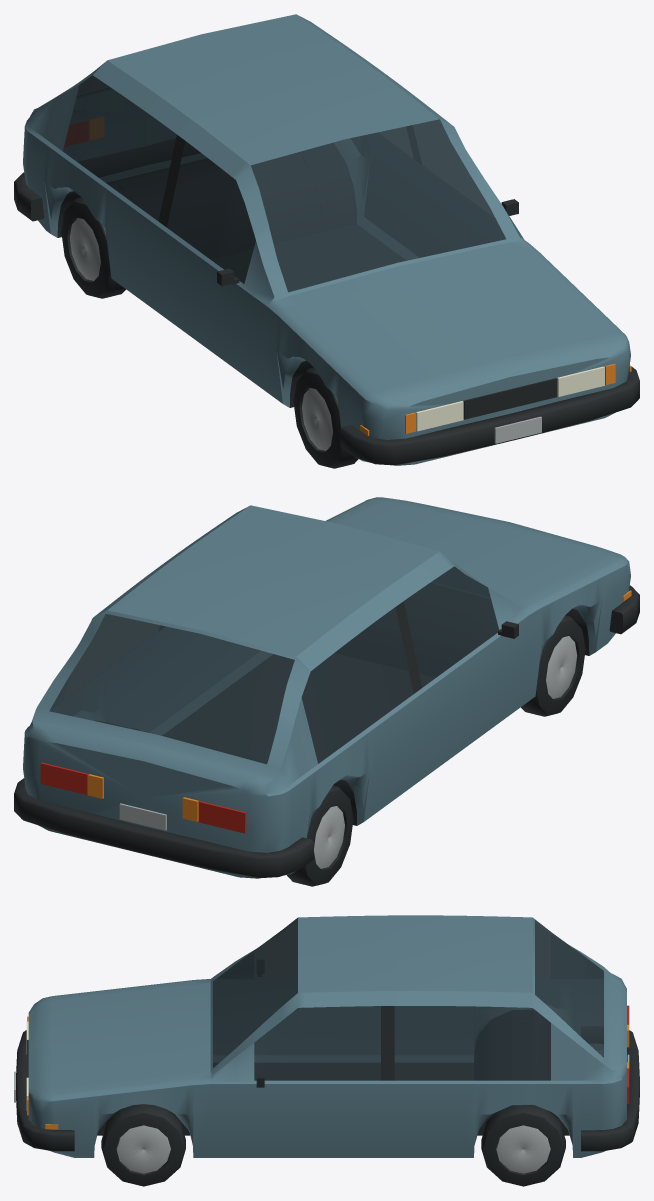
File: customer-car-hatchback-lite.glb
3 views of the same model, one above another, from view 1: azimuth 30°, elevation 25°; view 2: azimuth 150°, elevation 25°; view 3: azimuth 270°, elevation 25° (orthographic). The views are drawn at different scales.
Parts seen in each view (by area): view 1: Hatchback_BodyPaint, Hatchback_WindowGlass, Hatchback_RubberTrim, Hatchback_WheelMetal, Hatchback_Headlamp, Hatchback_AmberLens; view 2: Hatchback_BodyPaint, Hatchback_WindowGlass, Hatchback_RubberTrim, Hatchback_WheelMetal, Hatchback_TailLamp, Hatchback_AmberLens; view 3: Hatchback_BodyPaint, Hatchback_WindowGlass, Hatchback_RubberTrim, Hatchback_WheelMetal.
Part boxes in pixels (left/top/right/bottom): Hatchback_BodyPaint: left=23, top=14, right=630, bottom=465; Hatchback_WindowGlass: left=63, top=75, right=505, bottom=292; Hatchback_RubberTrim: left=14, top=125, right=639, bottom=468; Hatchback_WheelMetal: left=69, top=218, right=541, bottom=450; Hatchback_Headlamp: left=416, top=366, right=604, bottom=431; Hatchback_AmberLens: left=90, top=117, right=631, bottom=435; Hatchback_BodyPaint: left=23, top=497, right=630, bottom=878; Hatchback_WindowGlass: left=49, top=566, right=499, bottom=764; Hatchback_RubberTrim: left=14, top=583, right=639, bottom=886; Hatchback_WheelMetal: left=119, top=636, right=577, bottom=868; Hatchback_TailLamp: left=40, top=762, right=246, bottom=833; Hatchback_AmberLens: left=88, top=590, right=631, bottom=821; Hatchback_BodyPaint: left=28, top=915, right=626, bottom=1157; Hatchback_WindowGlass: left=213, top=918, right=603, bottom=1080; Hatchback_RubberTrim: left=16, top=1006, right=639, bottom=1186; Hatchback_WheelMetal: left=14, top=1054, right=629, bottom=1173.
Bounding box in the file's own units: 6.1 × 4.53 × 13.6.
